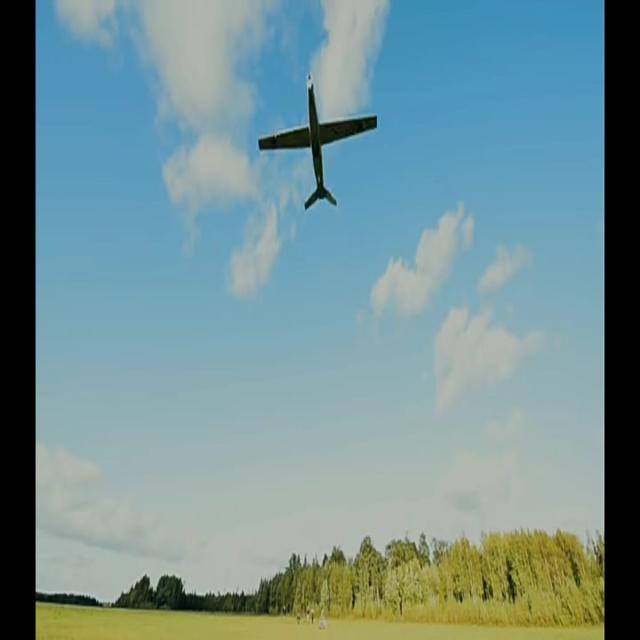iha: (289, 71, 346, 215)
